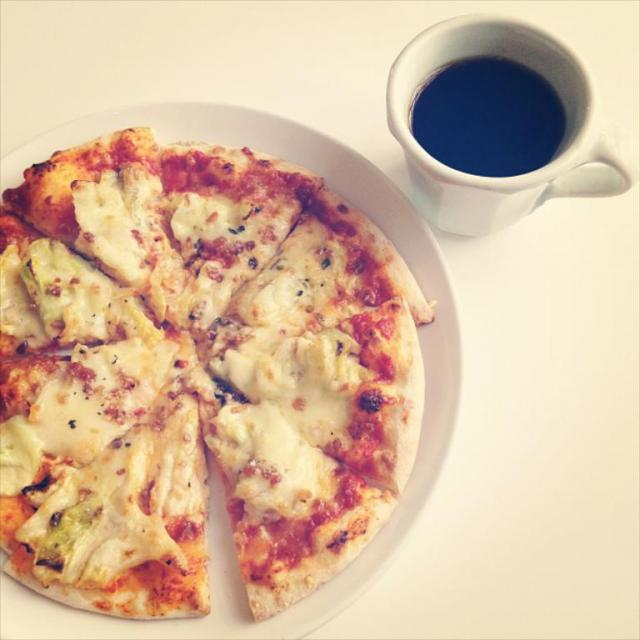Coffee: (409, 56, 576, 176)
Tea: (410, 58, 569, 178)
